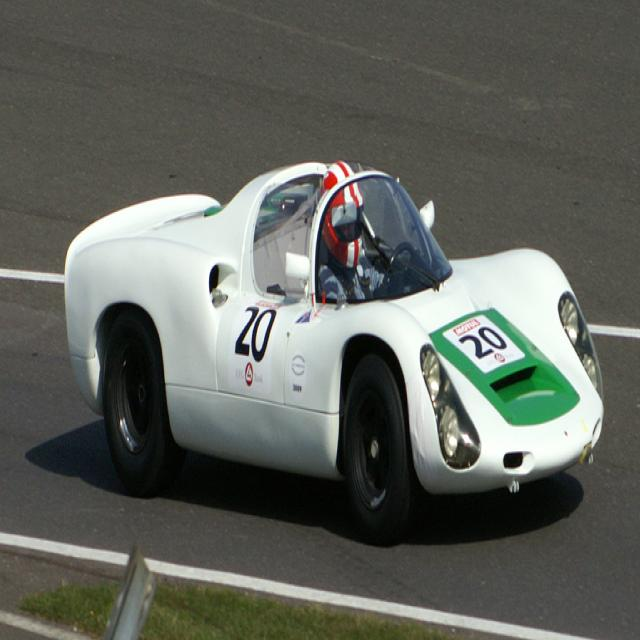car: (45, 158, 596, 525)
